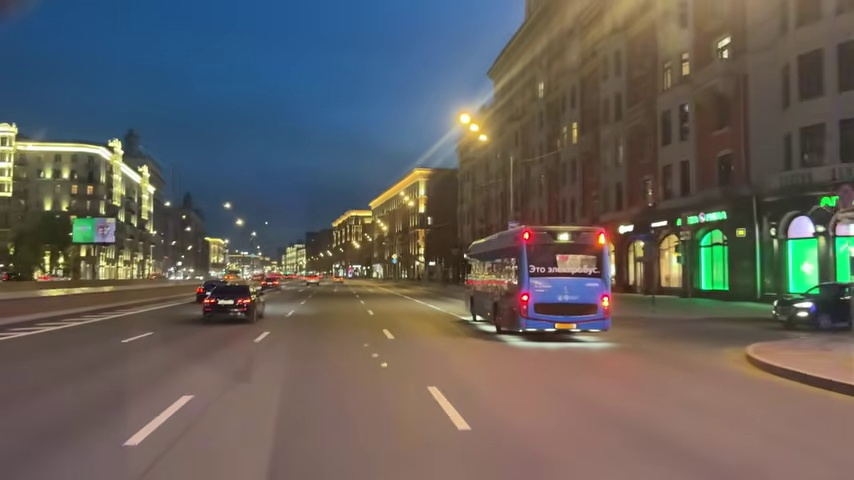acesa: (457, 111, 486, 140), (233, 216, 246, 229), (221, 199, 234, 211)
